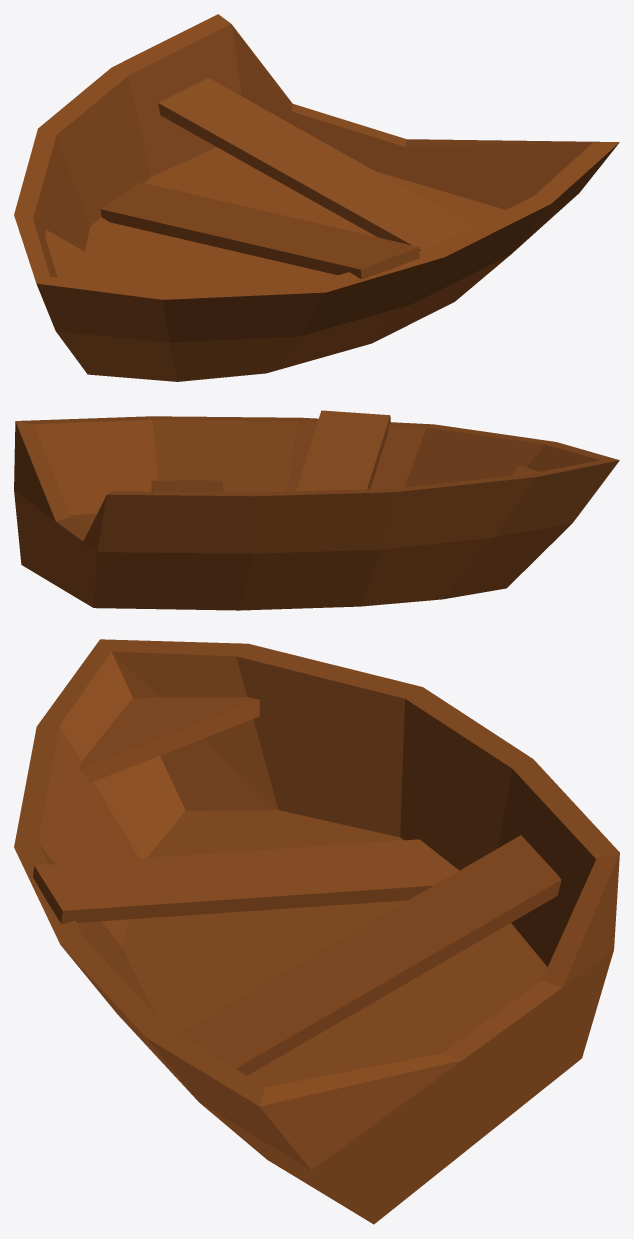
File: WreckedBoat.fbx
3 views of the same model, one above another, from view 1: azimuth 30°, elevation 25°; view 2: azimuth 150°, elevation 25°; view 3: azimuth 270°, elevation 25° (orthographic). The views are drawn at different scales.
Visible parts, largest first — view 1: WreckedBoat; view 2: WreckedBoat; view 3: WreckedBoat.
Part boxes in pixels (x1,y1,x2,y2): WreckedBoat: (14, 14, 619, 381); WreckedBoat: (14, 410, 619, 610); WreckedBoat: (14, 639, 619, 1224).
Bounding box in the file's own units: 2.24 × 0.7032 × 1.48.
